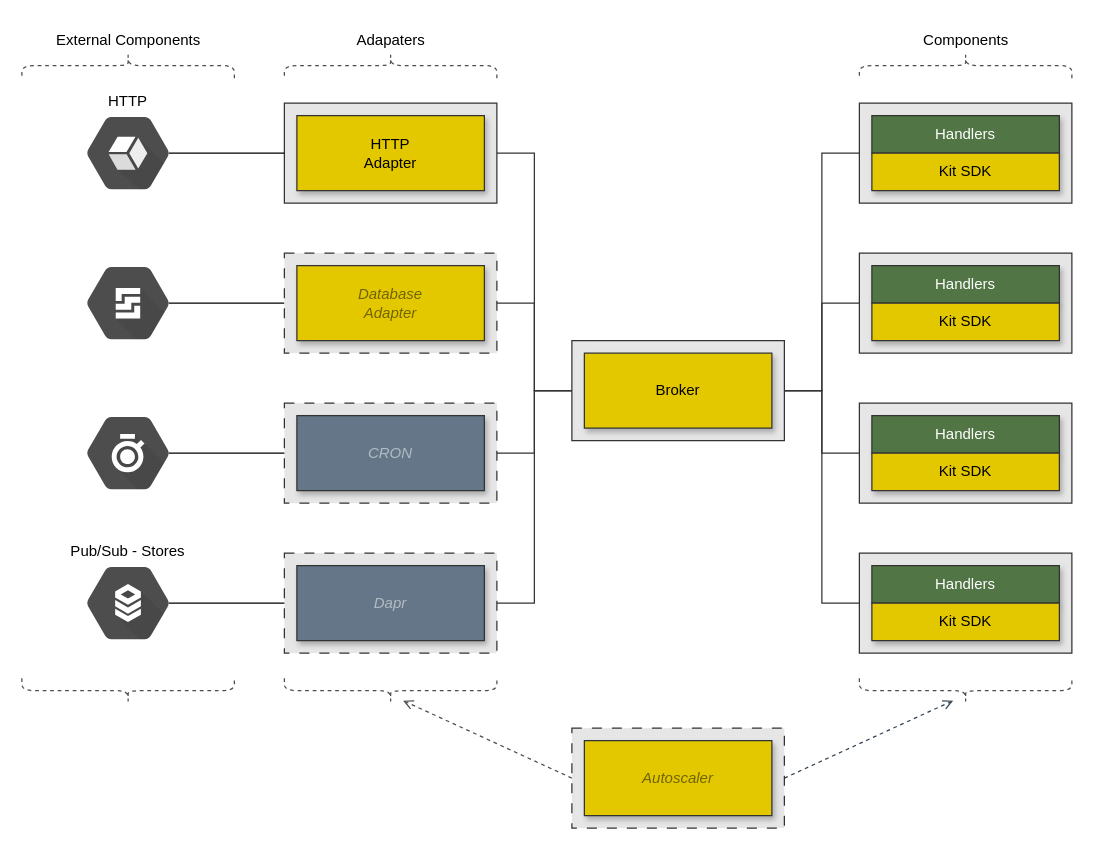
Some shapes in this 1094 by 850 pixel diagram are drawn without their labels. Each missing label, with the centre of its shape:
Schedule: point (127, 452)
SQL Database: point (127, 302)
